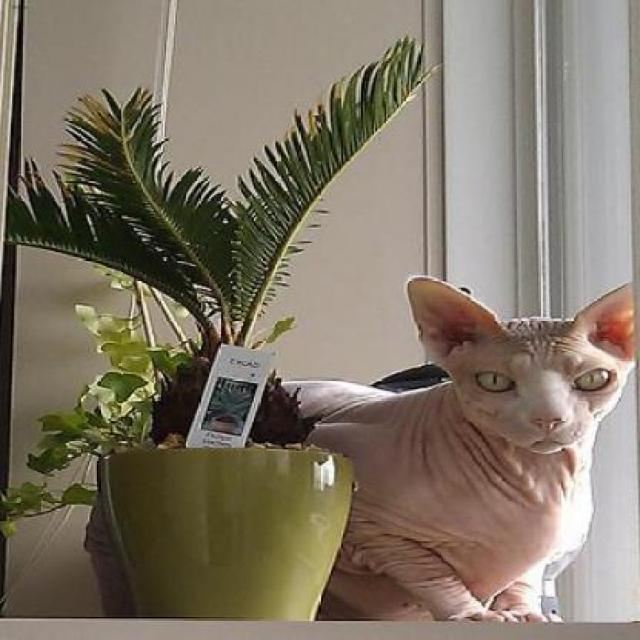cat: (281, 274, 633, 624)
